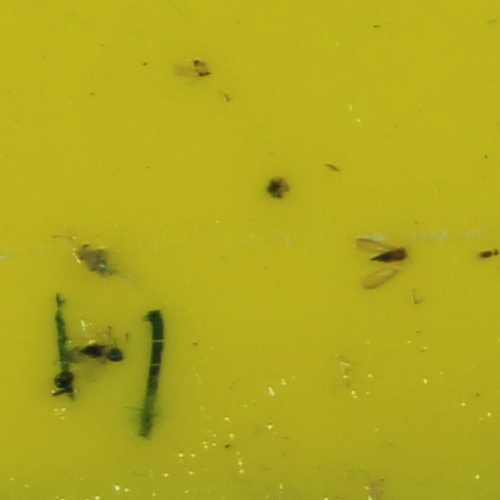Psyllaephagus: (83, 340, 129, 366)
psylla: (371, 244, 410, 261)
